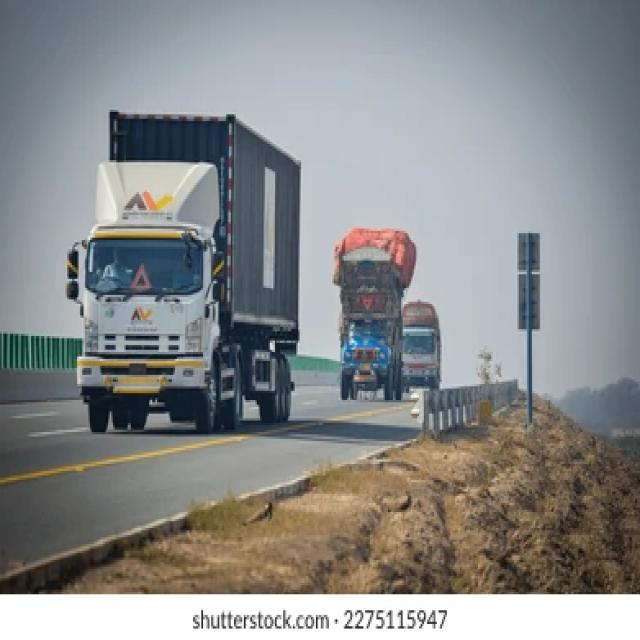Vehicles: (62, 97, 314, 462), (324, 211, 418, 418), (397, 298, 448, 398)
